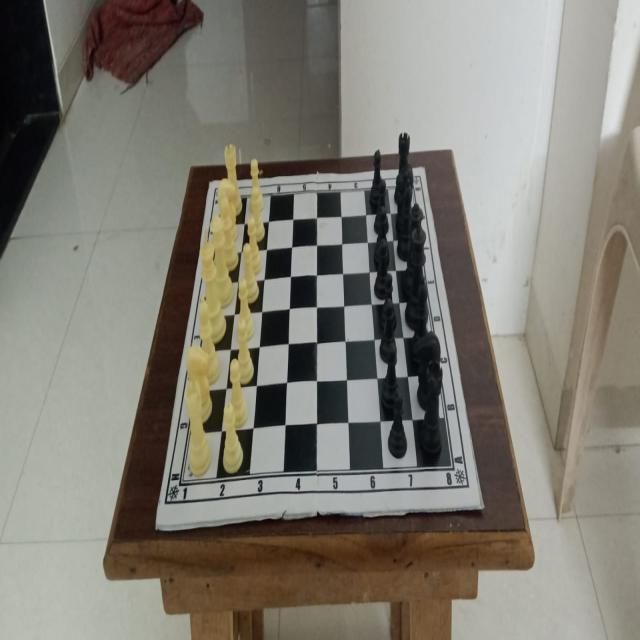corners: (476, 494, 489, 519), (416, 161, 429, 180), (205, 176, 217, 194), (151, 517, 163, 534)
